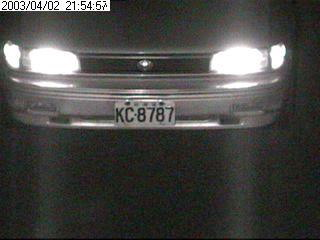plate: (113, 99, 177, 127)
